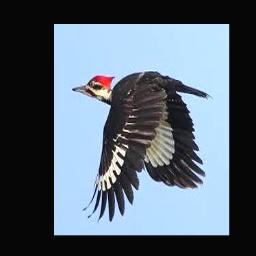Woodpecker: (73, 70, 214, 221)
